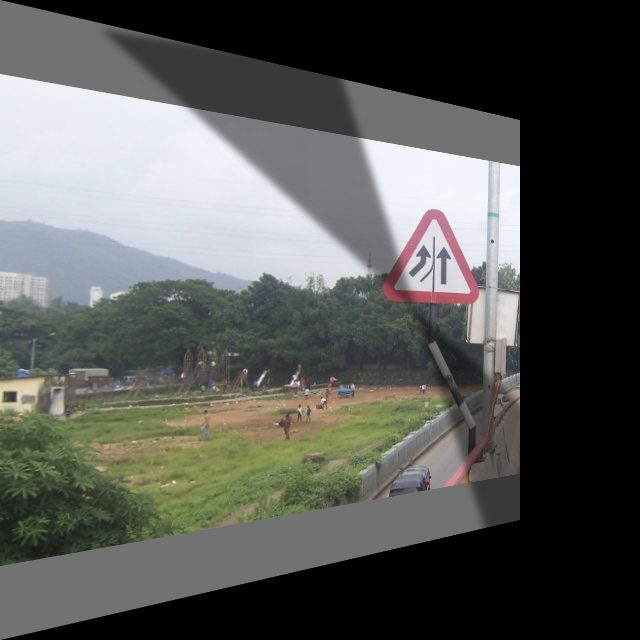Merge_Traffic_Ahead: (386, 201, 479, 308)
